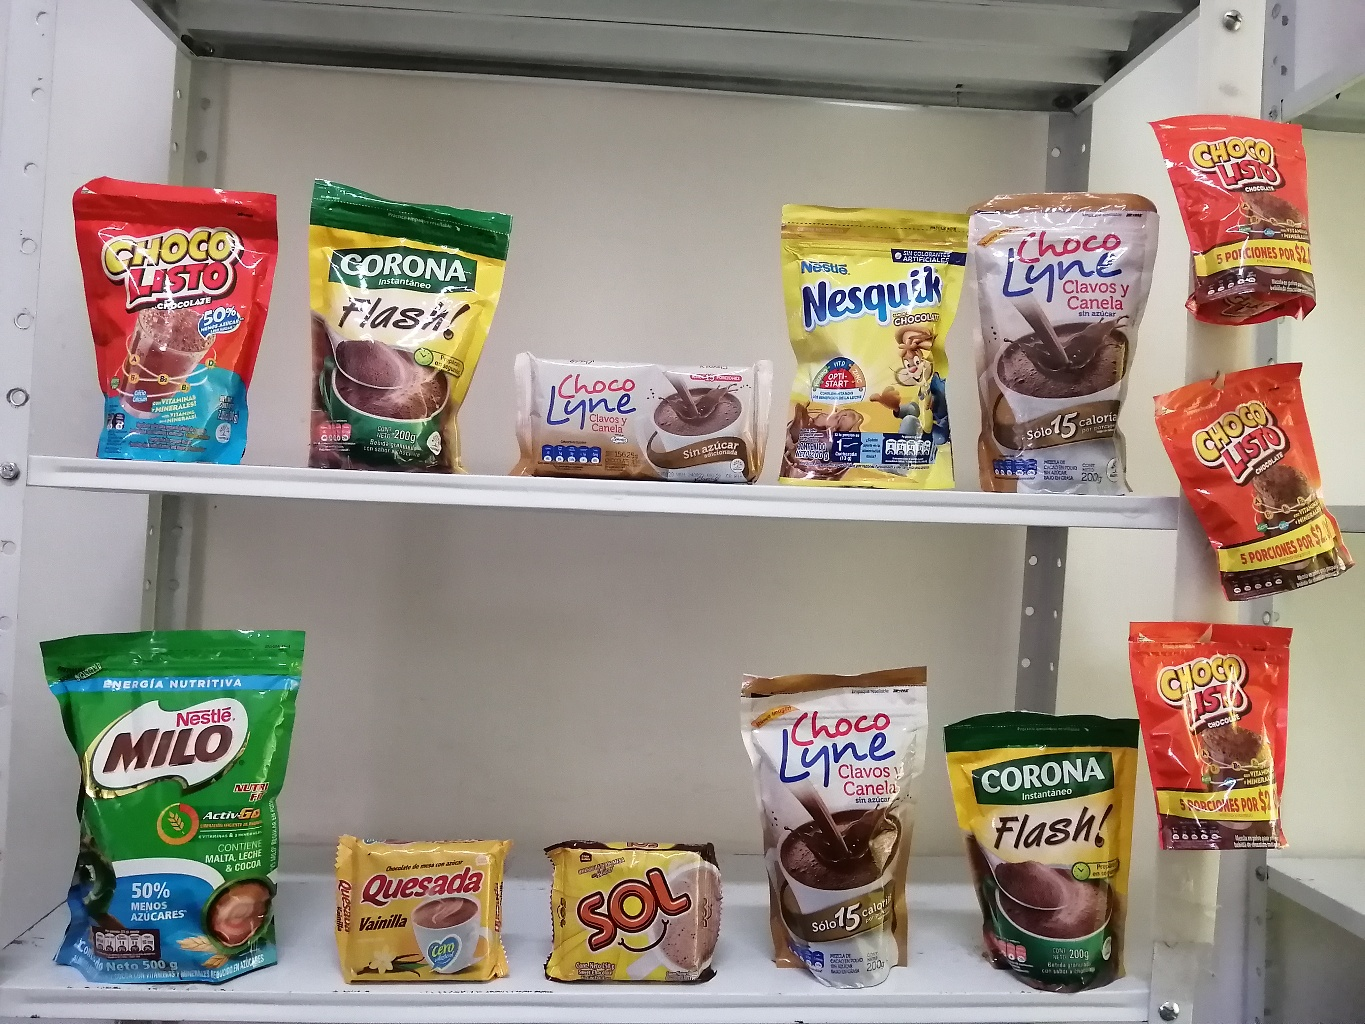COL0170104DYP20000: (57, 145, 278, 474)
COL0170205DYP50000: (23, 605, 319, 992)
COL0170303DYP20000: (759, 190, 985, 499)
